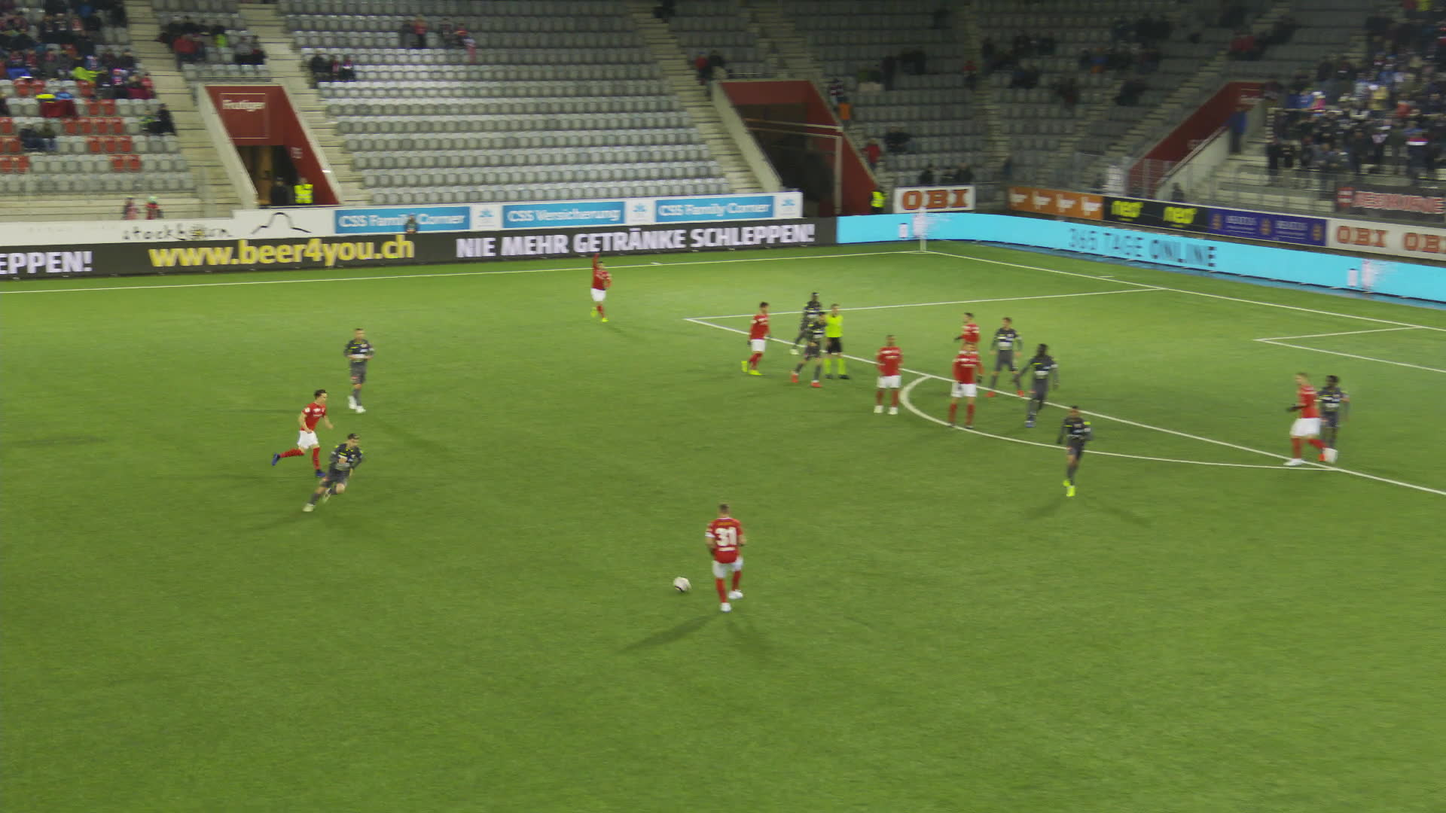ball: (661, 572, 679, 589)
player: (309, 432, 369, 514), (285, 391, 343, 473), (1304, 374, 1350, 470), (712, 504, 752, 611), (1027, 342, 1075, 425), (1055, 409, 1094, 495), (1326, 374, 1362, 463), (987, 317, 1024, 397), (953, 343, 987, 427), (798, 315, 834, 385), (350, 330, 380, 413), (878, 335, 908, 416), (745, 301, 776, 375), (966, 313, 993, 391), (801, 290, 831, 353), (593, 254, 617, 322)
referee: (825, 303, 855, 380)
